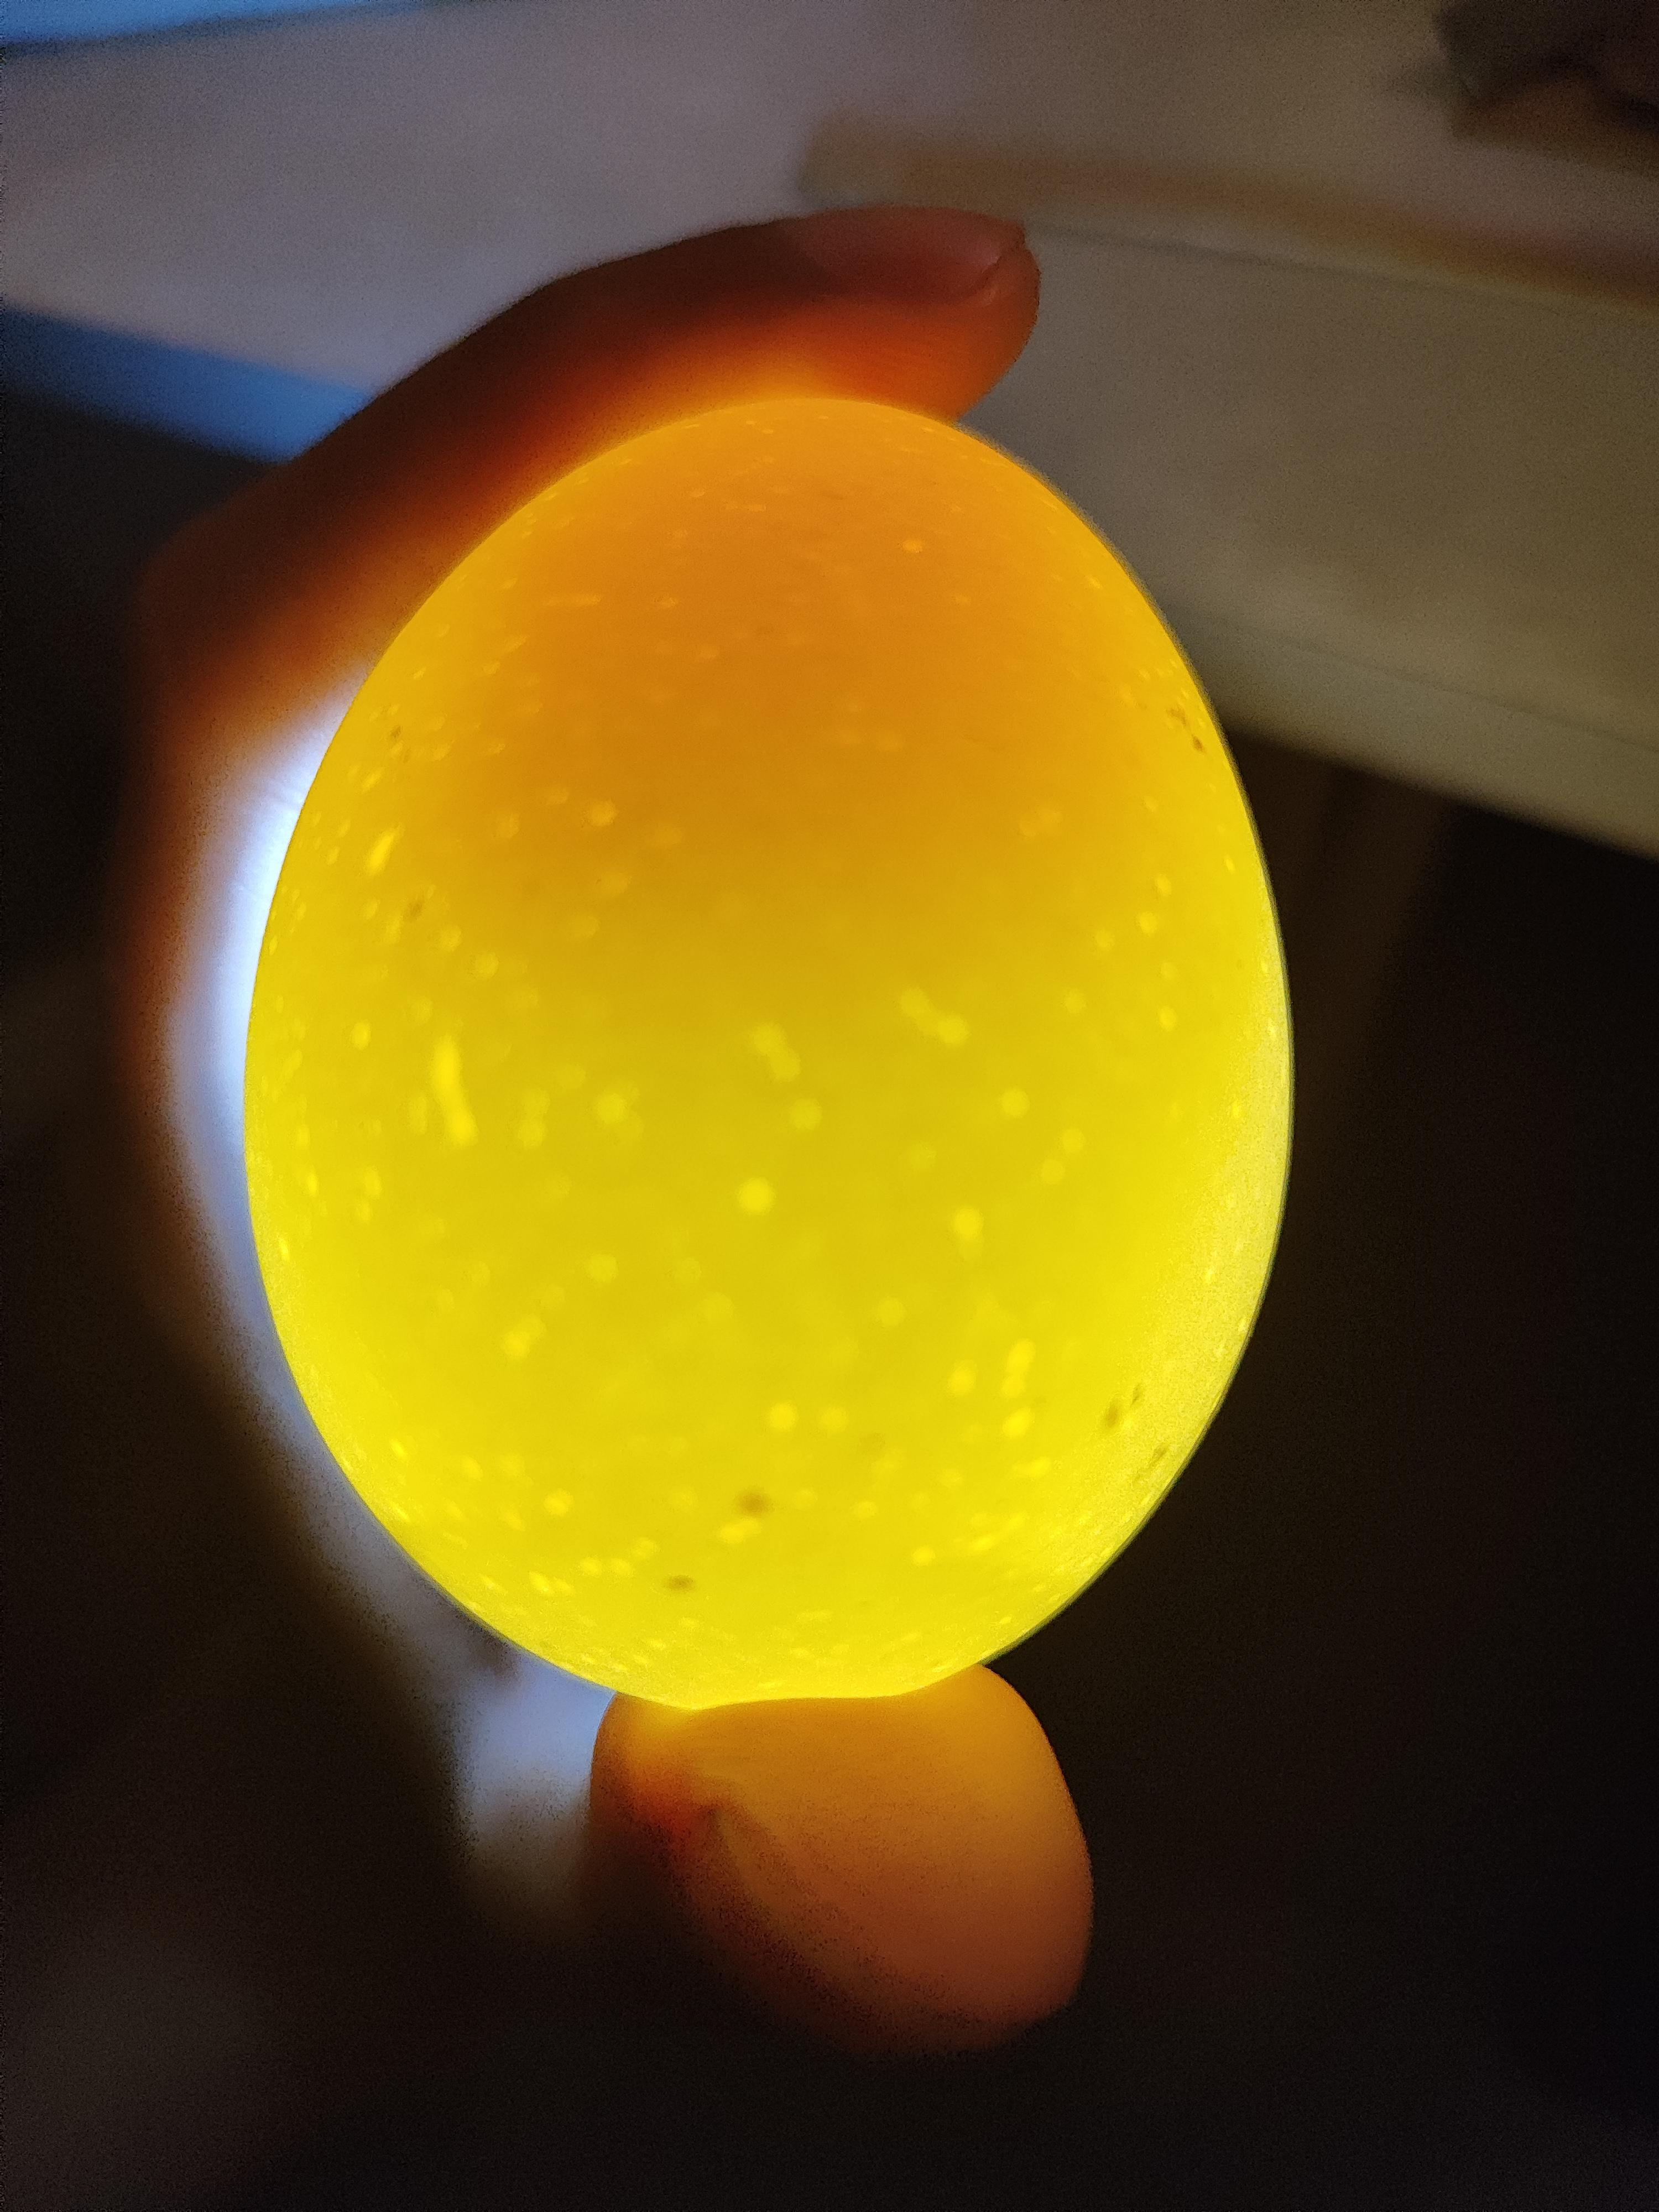AA - Premium: (235, 368, 1319, 1720)
